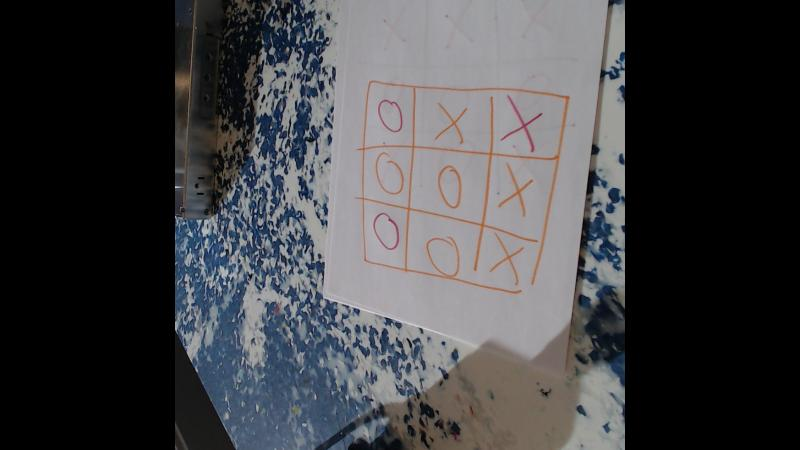O: (419, 229, 469, 279), (434, 157, 466, 213), (368, 151, 406, 198), (372, 92, 408, 136), (368, 210, 404, 250)
X: (501, 94, 544, 150), (499, 160, 540, 218), (430, 94, 472, 146), (484, 236, 528, 280)
grid: (362, 77, 562, 300)
